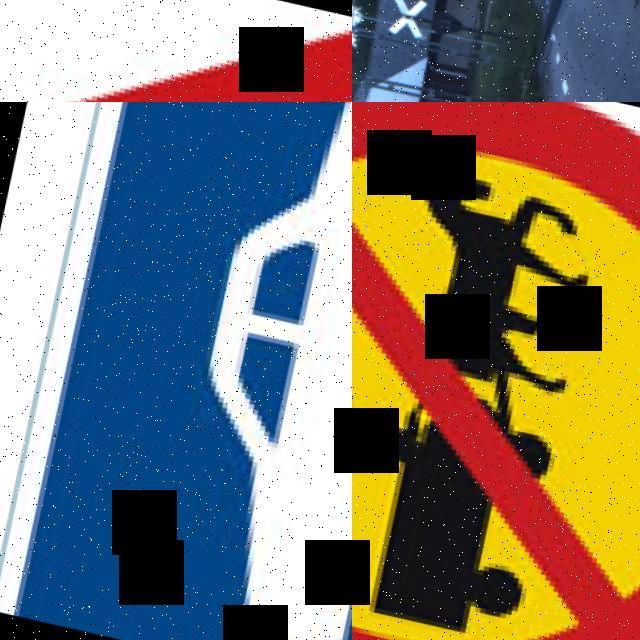41: (352, 102, 640, 640)
69: (0, 102, 352, 640)
Steep uphill: (0, 0, 352, 102)
